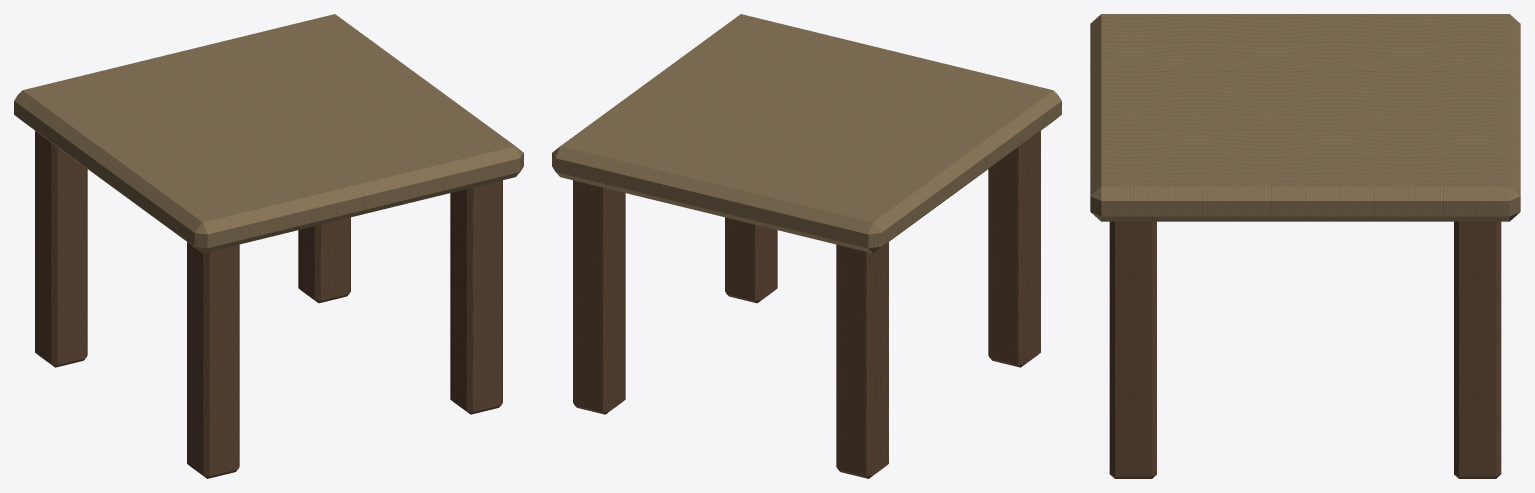
File: table.glb
The picture shows the model from 3 angles, left to right: view 1: azimuth 30°, elevation 25°; view 2: azimuth 150°, elevation 25°; view 3: azimuth 270°, elevation 25°; orthographic projection. The views are drawn at different scales.
Visible parts, largest first — view 1: DD_Table_Top, DD_Table_Leg, DD_Table_Leg.002, DD_Table_Leg.001, DD_Table_Leg.003; view 2: DD_Table_Top, DD_Table_Leg.001, DD_Table_Leg.003, DD_Table_Leg, DD_Table_Leg.002; view 3: DD_Table_Top, DD_Table_Leg.002, DD_Table_Leg.003.
Boxes of the visible parts, x1,y1,x2,y2 form: DD_Table_Top: (14, 14, 523, 253); DD_Table_Leg: (187, 242, 239, 478); DD_Table_Leg.002: (450, 180, 502, 414); DD_Table_Leg.001: (35, 131, 87, 367); DD_Table_Leg.003: (298, 217, 350, 303); DD_Table_Top: (552, 14, 1061, 253); DD_Table_Leg.001: (836, 242, 888, 478); DD_Table_Leg.003: (573, 180, 625, 414); DD_Table_Leg: (988, 131, 1040, 367); DD_Table_Leg.002: (725, 217, 777, 303); DD_Table_Top: (1090, 14, 1520, 221); DD_Table_Leg.002: (1109, 221, 1156, 478); DD_Table_Leg.003: (1454, 221, 1501, 478).
Bounding box in the file's own units: 1 × 0.765 × 1.
2 materials, 2 textured.
